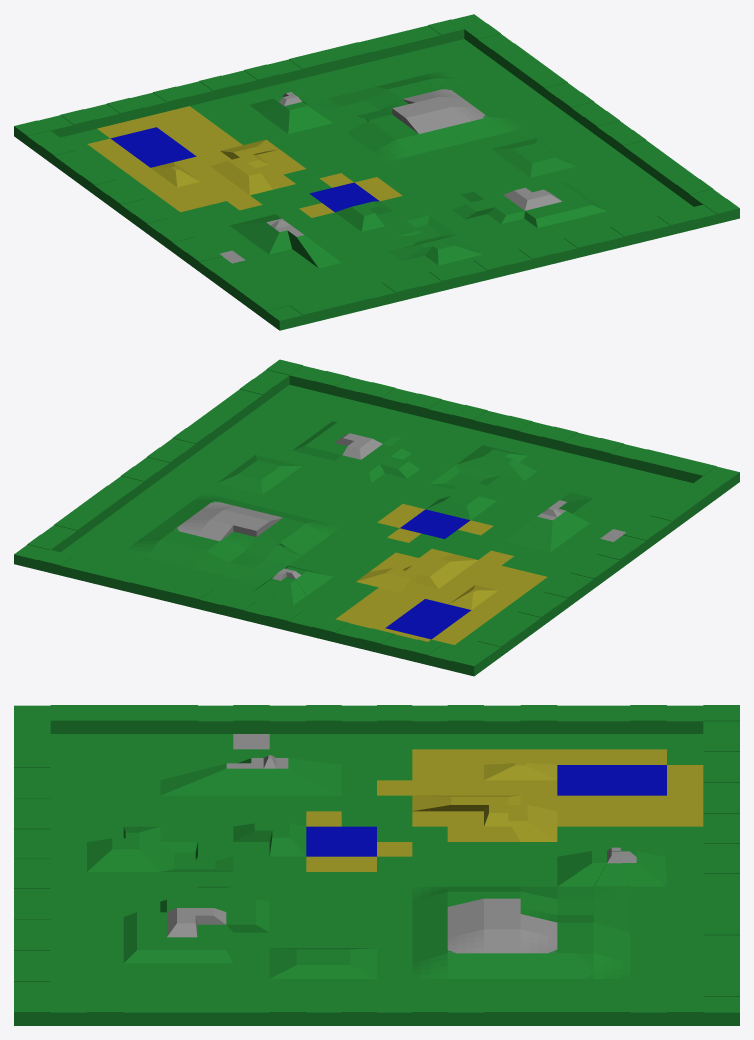
File: groundOnly.glb
3 renders of one model, top to bottom at view 1: azimuth 30°, elevation 25°; view 2: azimuth 150°, elevation 25°; view 3: azimuth 270°, elevation 25°, orthographic. The views are drawn at different scales.
Visible parts, largest first — view 1: Ground; view 2: Ground; view 3: Ground.
Part boxes in pixels (x1,y1,x2,y2): Ground: (14,14,739,330); Ground: (14,359,739,676); Ground: (14,705,739,1025).
Size of the model in its own units: 497 by 23.96 by 497.
